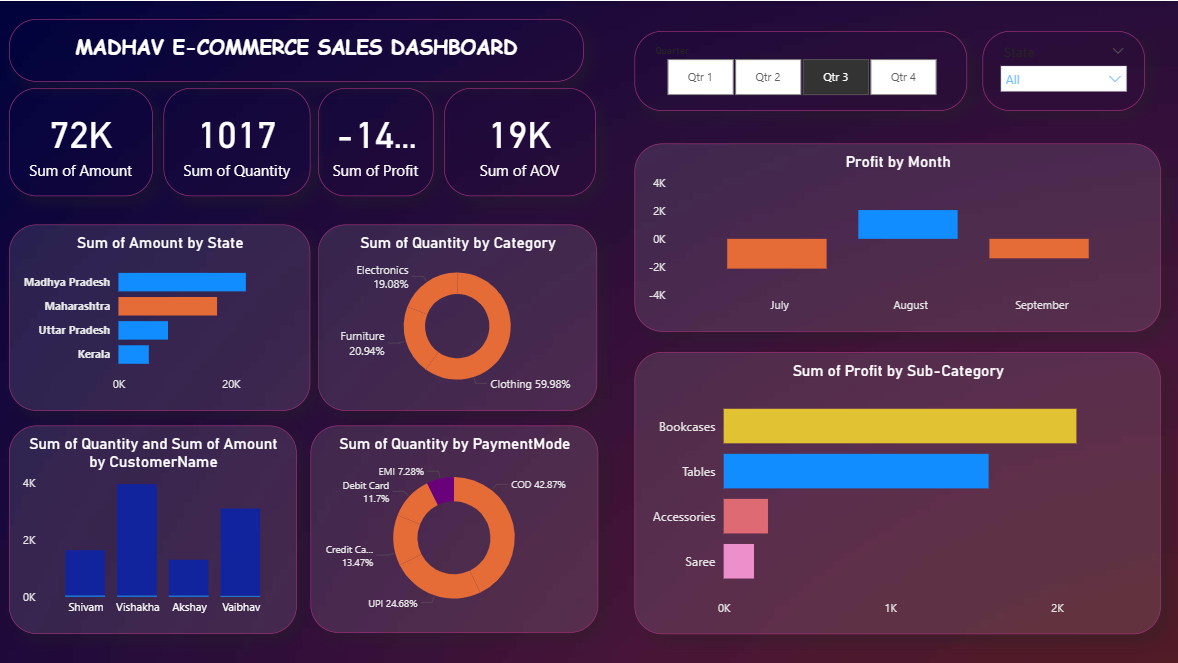

The dashboard page shown, as its layout file describes it:
{"tool":"powerbi","page":{"name":"Page 1","canvas":[1280,720],"ordinal":0},"visuals":[{"type":"textbox","box":[9.4,18.9,623.6,68],"z":0},{"type":"columnChart","title":"Profit by Month","fields":{"Category":["Orders.Order Date.Variation.Date Hierarchy.Month"],"Y":["Sum(Details.Profit)"]},"box":[687.9,155,570.7,204.1],"z":1000},{"type":"barChart","fields":{"Category":["Details.Sub-Category"],"Y":["Sum(Details.Profit)"]},"box":[687.9,379.8,570.7,306.1],"z":2000},{"type":"donutChart","fields":{"Category":["Details.Category"],"Y":["Sum(Details.Quantity)"]},"box":[344.8,242.4,302.5,201.7],"z":3000},{"type":"donutChart","fields":{"Y":["Sum(Details.Quantity)"],"Category":["Details.PaymentMode"]},"box":[336.4,461.1,311.8,224.9],"z":4000},{"type":"card","fields":{"Values":["Sum(Details.Amount)"]},"box":[9.8,94.3,156.1,117.1],"z":4002},{"type":"card","fields":{"Values":["Sum(Details.Quantity)"]},"box":[177.3,94.3,159.4,117.1],"z":4003},{"type":"card","fields":{"Values":["Sum(Details.Profit)"]},"box":[344.8,94.3,125.2,117.1],"z":4004},{"type":"card","fields":{"Values":["Sum(Details.AOV)"]},"box":[481.9,94.5,164.4,117.2],"z":4005},{"type":"barChart","fields":{"Category":["Orders.State"],"Y":["Sum(Details.Amount)"]},"box":[9.8,242.4,326.9,201.7],"z":4006},{"type":"columnChart","fields":{"Category":["Orders.CustomerName"],"Y":["Sum(Details.Quantity)","Sum(Details.Amount)"]},"box":[10,460,312,226],"z":4007},{"type":"slicer","fields":{"Values":["Orders.Order Date.Variation.Date Hierarchy.Quarter"]},"box":[687.9,32.1,360.9,86.9],"z":4008},{"type":"slicer","fields":{"Values":["Orders.State"]},"box":[1065.8,32.1,175.7,86.9],"z":4009}]}

Visuals, with their boxes in screenshot pixels (x1, y1, x2, y2), scaled from the page's 1280x720 canvas onto the 1178x663 screenshot:
textbox: select_region(9, 17, 583, 80)
"Profit by Month" columnChart: select_region(633, 143, 1158, 331)
barChart - Details.Sub-Category x Sum(Details.Profit): select_region(633, 350, 1158, 632)
donutChart - Details.Category x Sum(Details.Quantity): select_region(317, 223, 596, 409)
donutChart - Sum(Details.Quantity) x Details.PaymentMode: select_region(310, 425, 597, 632)
card - Sum(Details.Amount): select_region(9, 87, 153, 195)
card - Sum(Details.Quantity): select_region(163, 87, 310, 195)
card - Sum(Details.Profit): select_region(317, 87, 433, 195)
card - Sum(Details.AOV): select_region(443, 87, 595, 195)
barChart - Orders.State x Sum(Details.Amount): select_region(9, 223, 310, 409)
columnChart - Orders.CustomerName x Sum(Details.Quantity): select_region(9, 424, 296, 632)
slicer - Orders.Order Date.Variation.Date Hierarchy.Quarter: select_region(633, 30, 965, 110)
slicer - Orders.State: select_region(981, 30, 1143, 110)
